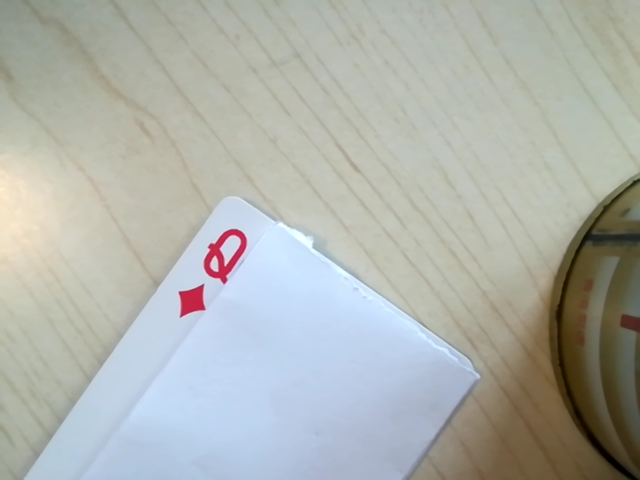fk q: (172, 220, 260, 322)
